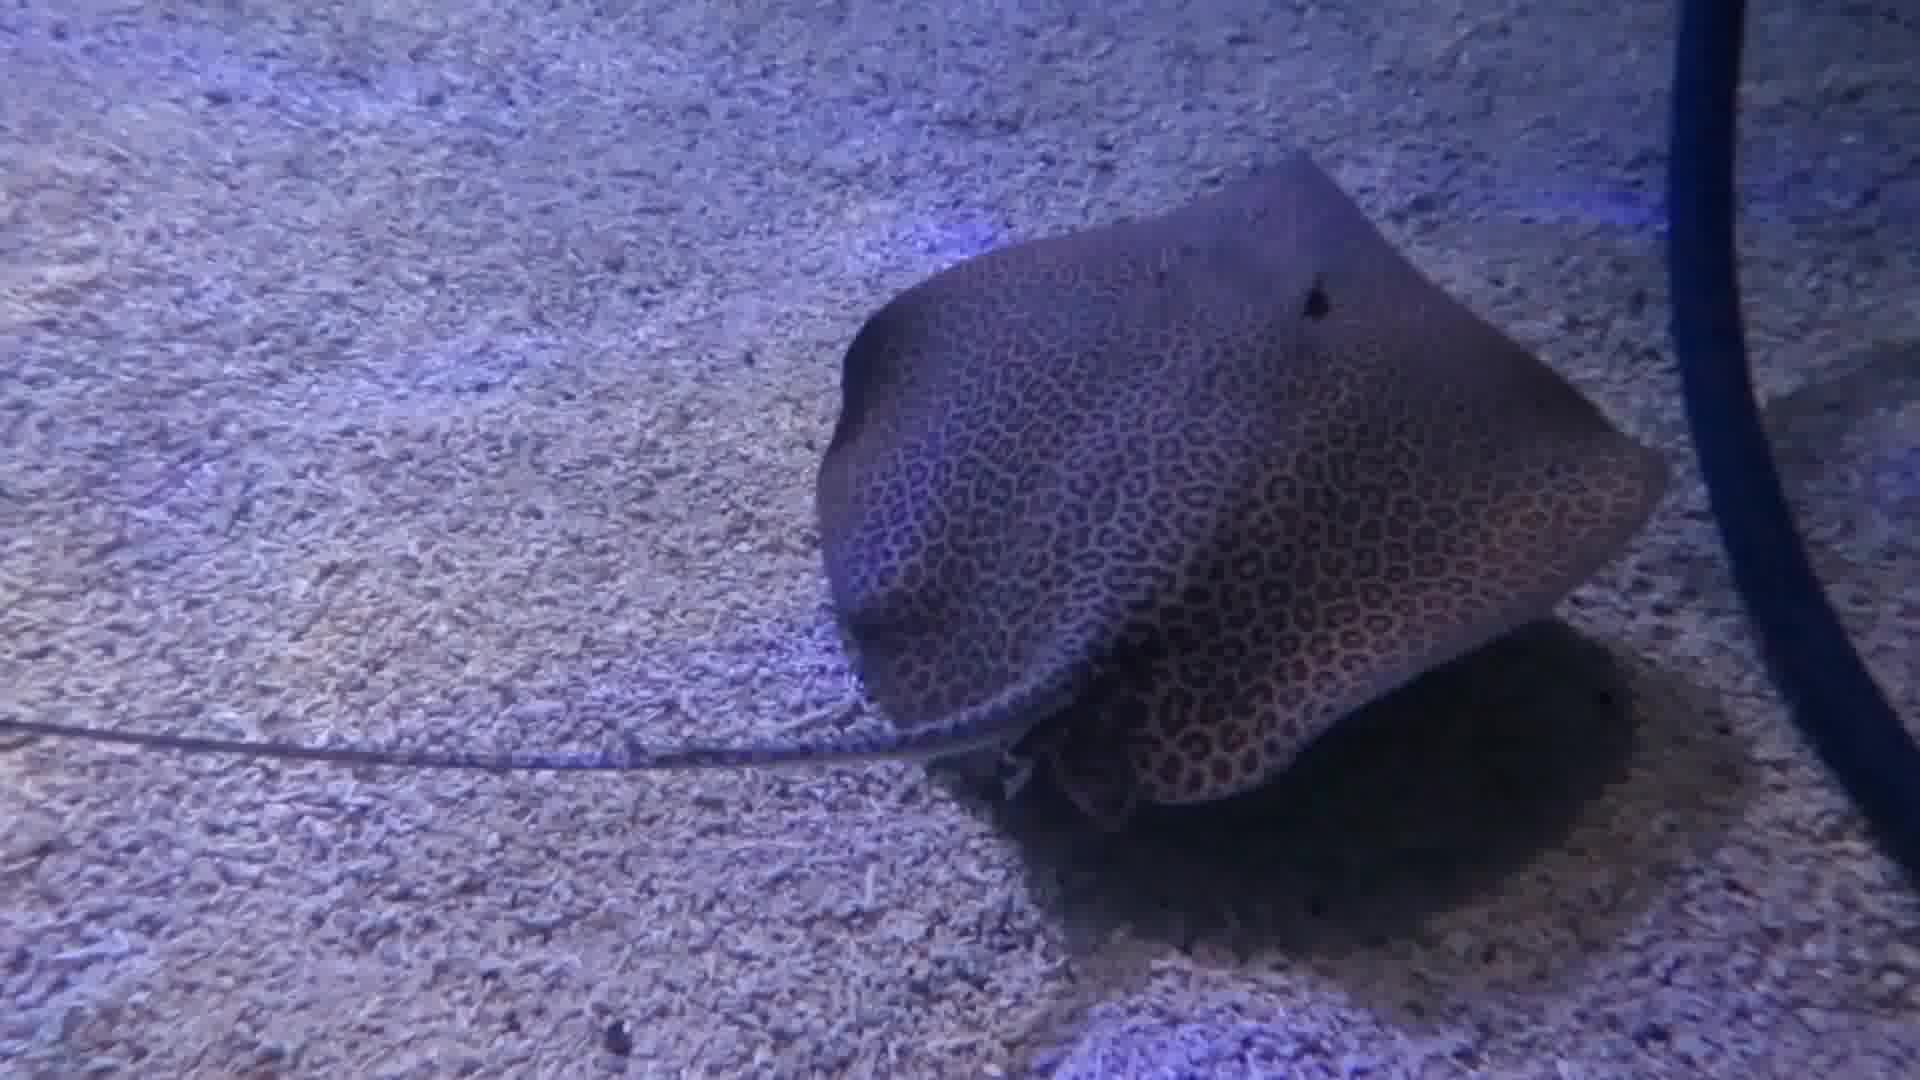Himantura uarnak: (748, 123, 1656, 891)
